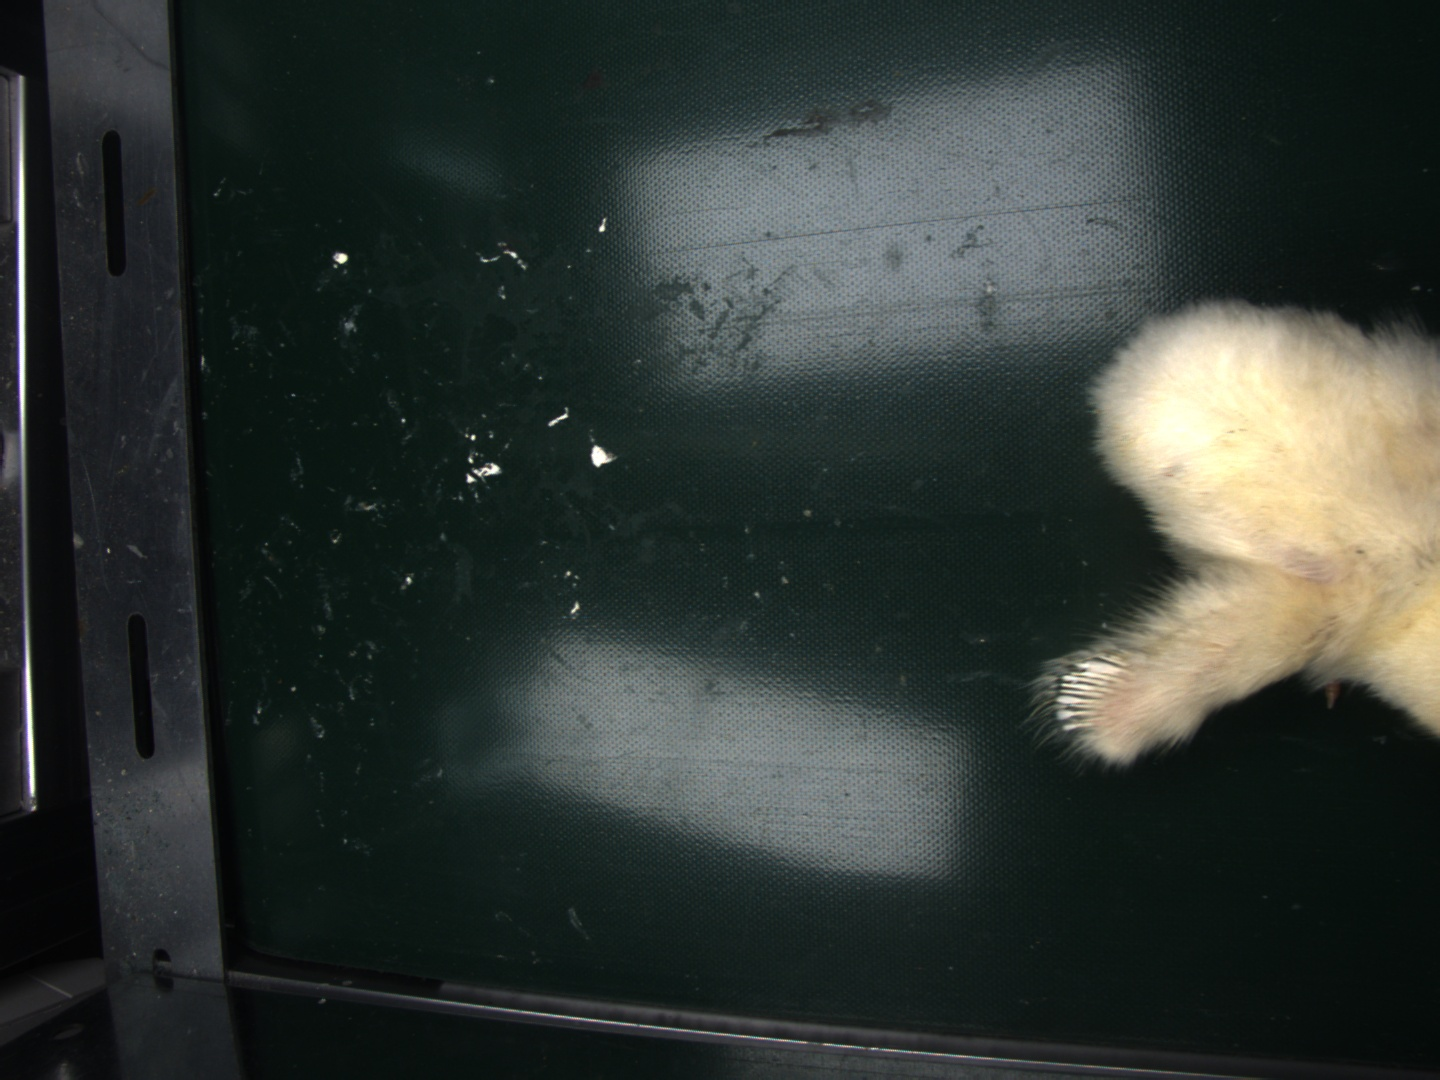male: (1049, 655, 1123, 742)
